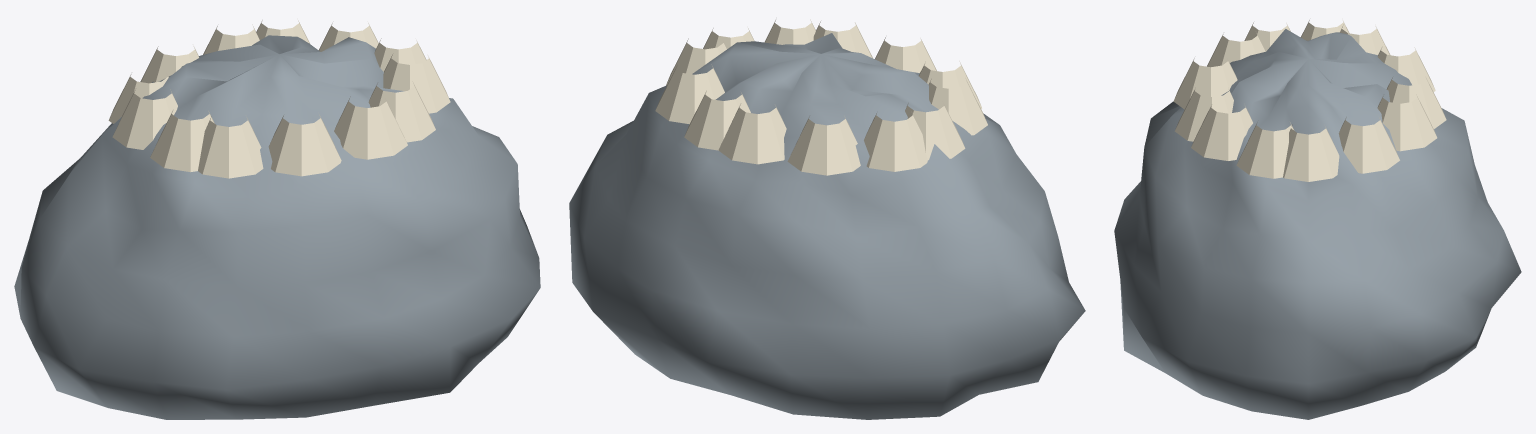
File: barnacle_crusted_rock_tropical_island_and_palm_trees_6853.glb
3 renders of one model, left to right at view 1: azimuth 30°, elevation 25°; view 2: azimuth 150°, elevation 25°; view 3: azimuth 270°, elevation 25°, orthographic. The views are drawn at different scales.
Parts seen in each view (by area): view 1: barnacle-rock; view 2: barnacle-rock; view 3: barnacle-rock.
Part boxes in pixels (<box>): barnacle-rock: <box>14,20,540,419</box>; barnacle-rock: <box>569,19,1085,419</box>; barnacle-rock: <box>1114,20,1521,419</box>.
Bounding box in the file's own units: 1.04 × 0.5674 × 0.8053.
